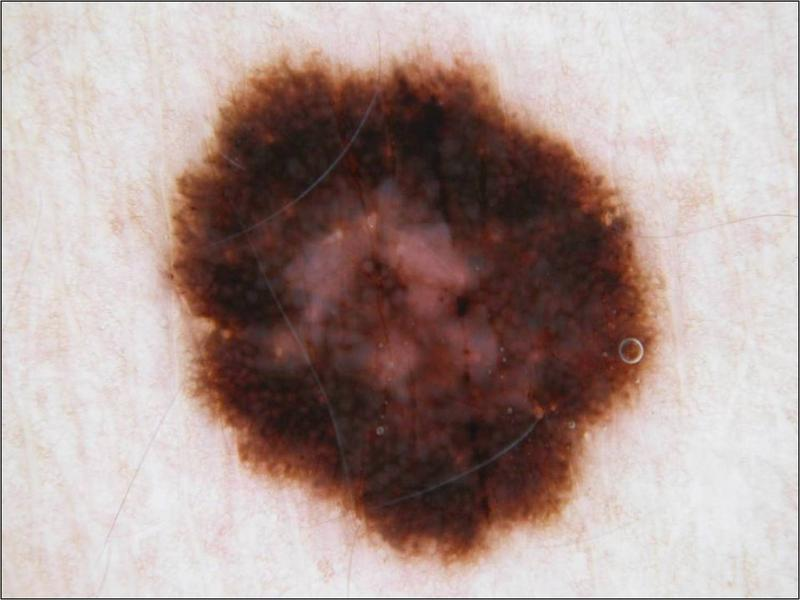Malignant: (181, 34, 673, 553)
